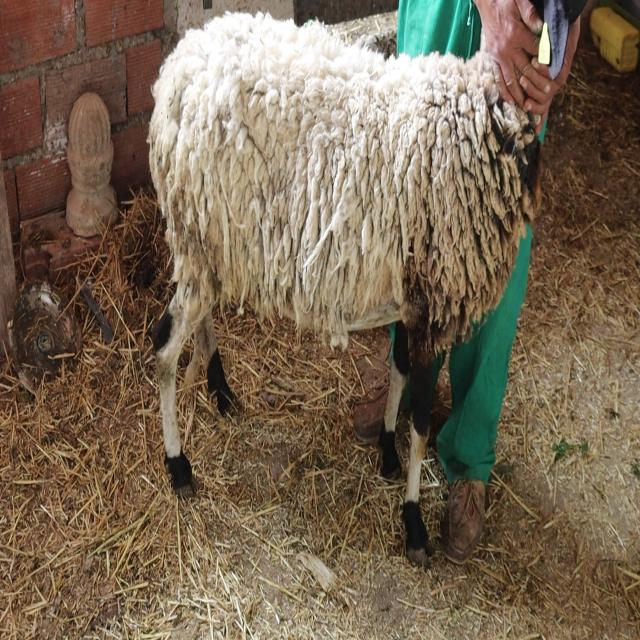Score_2: (148, 14, 540, 564)
